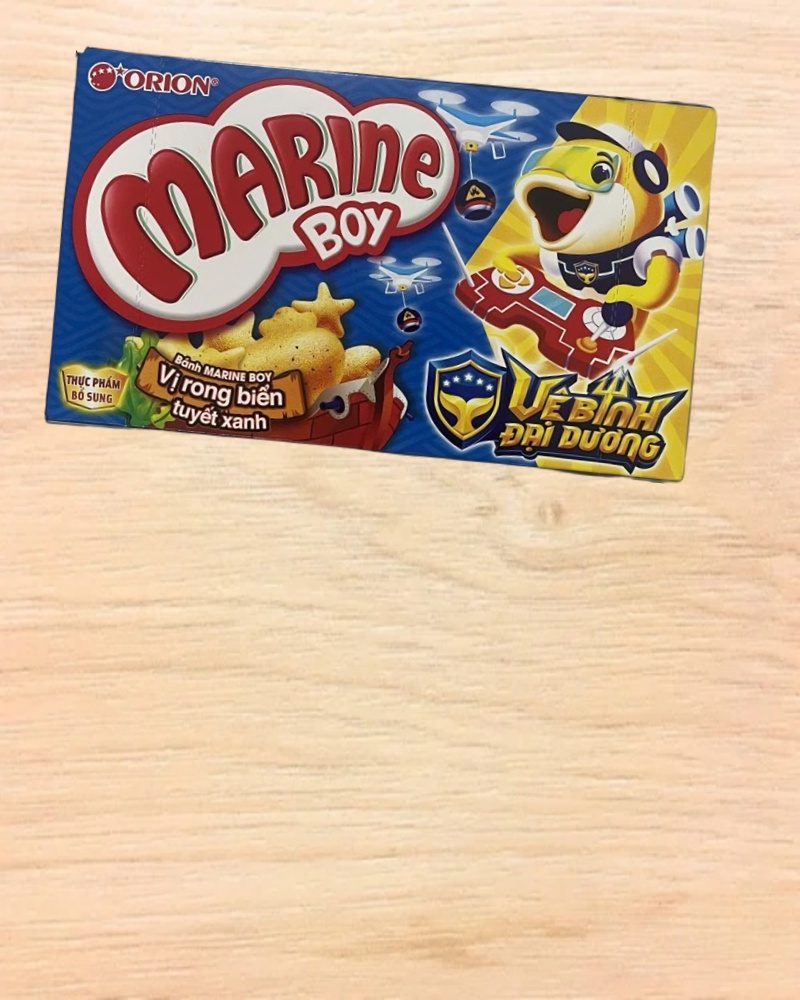Marine: (46, 47, 720, 484)
